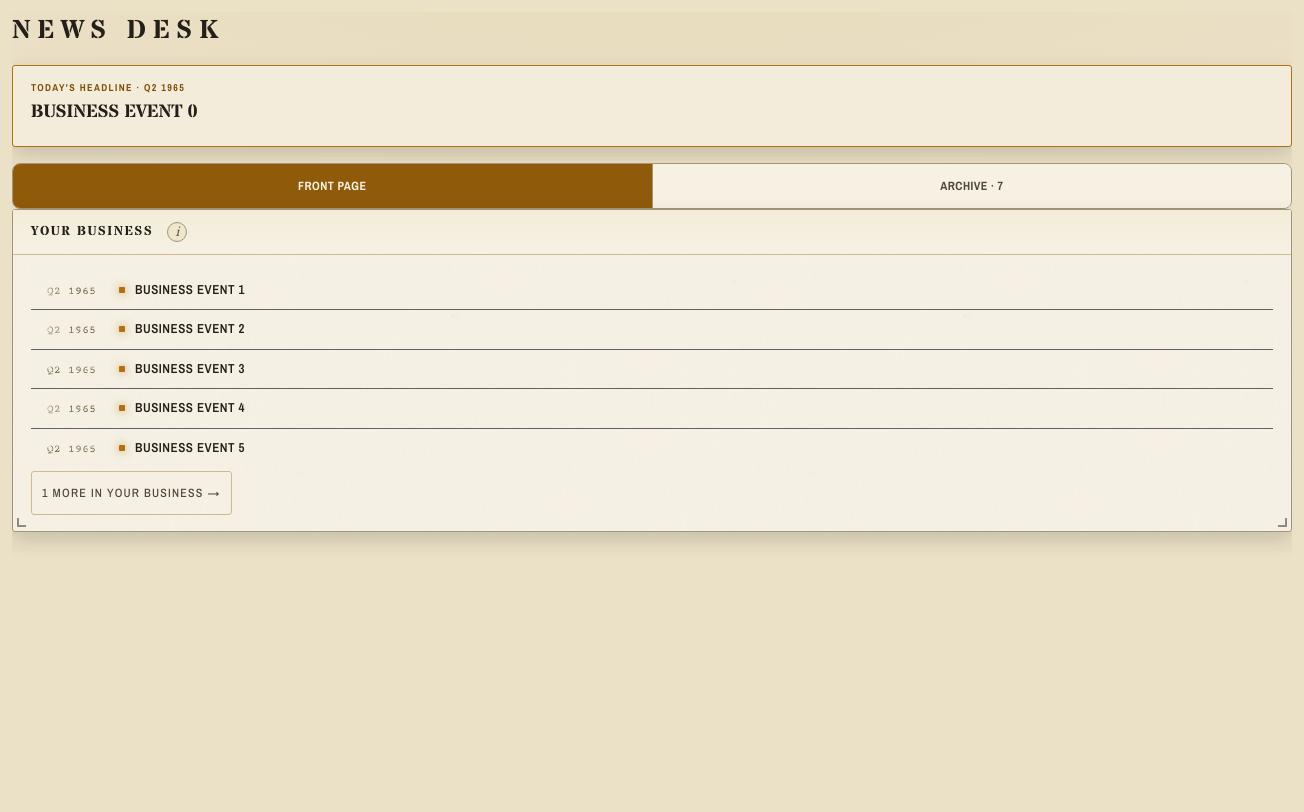
TheWire — NEWS DESK i tre nivåer (P81d) › "More"-knappen växlar till arkivet, redan filtrerat på samma avdelning
Click the button with test id "news-more-business".
click(131, 493)  # box [31,471,232,515]
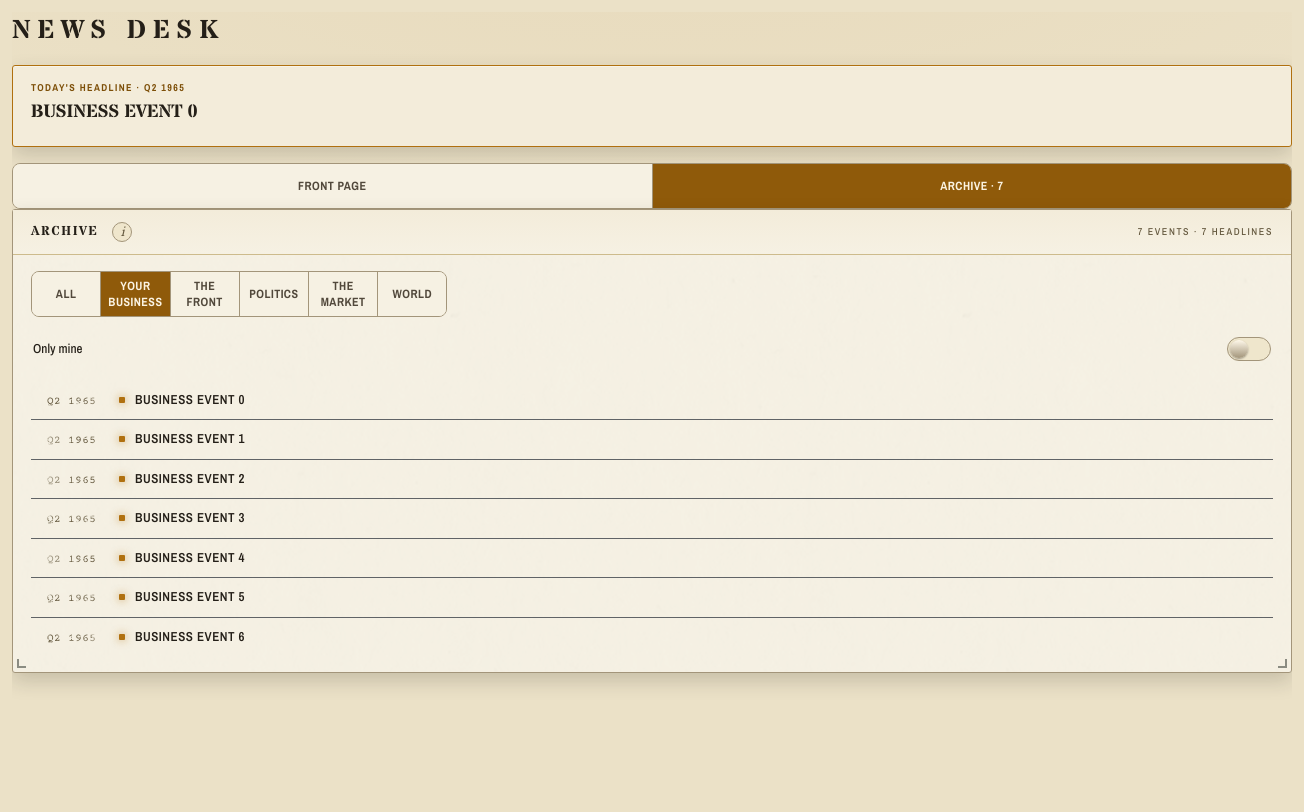
Expected: the list with test id "archive-list" is shown, [31,380,1273,656]
Expected: the element with test id "news-front-page" is gone
